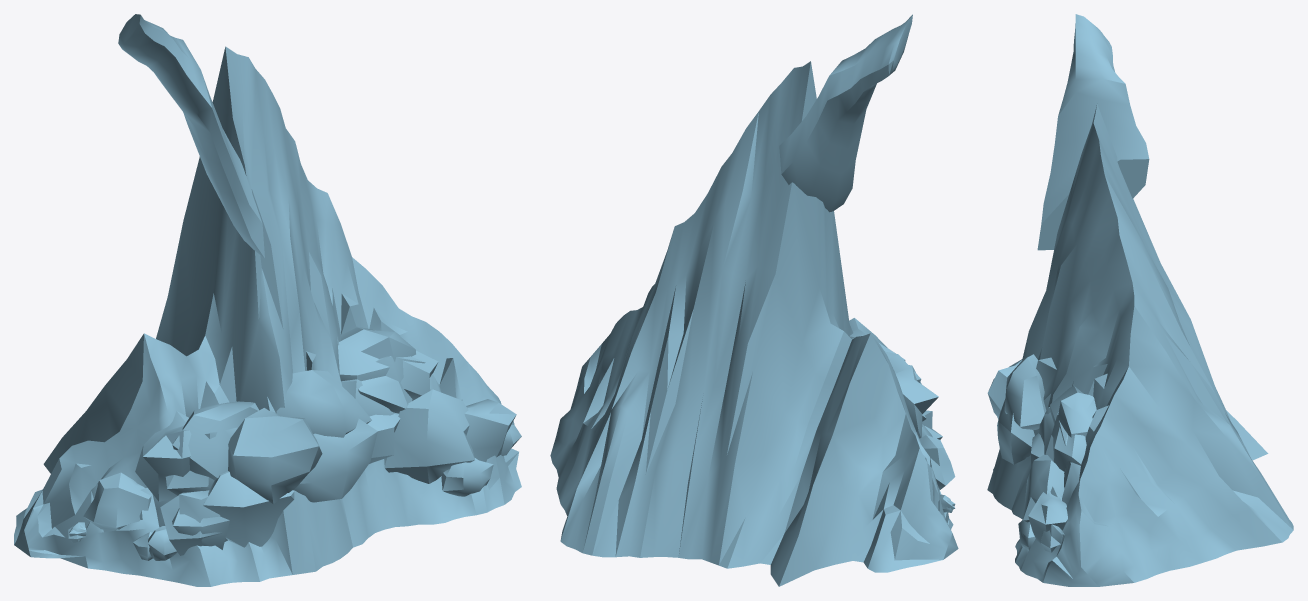
The model's file is lithium-iceberg-huge.glb.
The picture shows the model from 3 angles, left to right: view 1: azimuth 30°, elevation 25°; view 2: azimuth 150°, elevation 25°; view 3: azimuth 270°, elevation 25°; orthographic projection. The views are drawn at different scales.
Visible parts, largest first — view 1: body; view 2: body; view 3: body.
Part boxes in pixels (left/top/right/bottom): body: left=14, top=14, right=521, bottom=586; body: left=550, top=14, right=958, bottom=586; body: left=987, top=14, right=1293, bottom=586.
Size of the model in its own units: 4.64 by 5.36 by 3.46.
